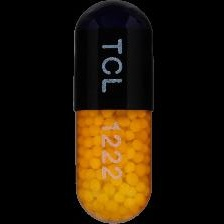68151-2503: (0, 0, 224, 224)
